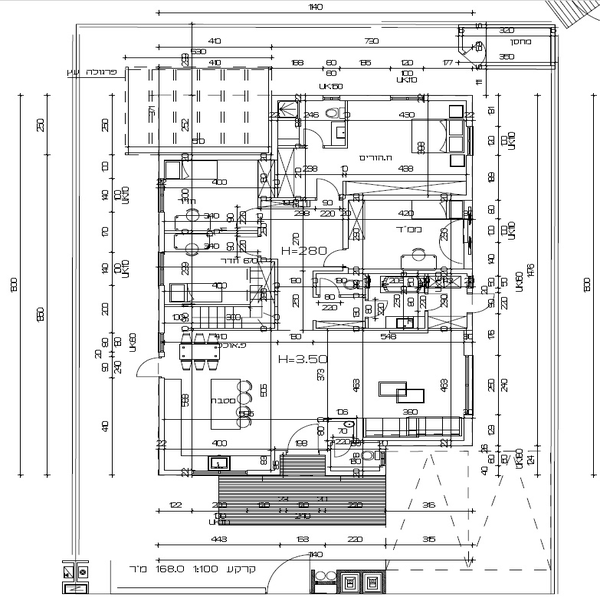door: (279, 424, 322, 453), (467, 287, 499, 324), (320, 244, 351, 279), (297, 125, 330, 154), (314, 171, 340, 200), (135, 355, 159, 381)
wall: (156, 383, 173, 478), (164, 153, 275, 165), (347, 439, 456, 450), (340, 91, 395, 108), (266, 90, 322, 106), (457, 415, 476, 449), (424, 93, 477, 105), (462, 160, 475, 206)
window: (459, 354, 484, 418)
